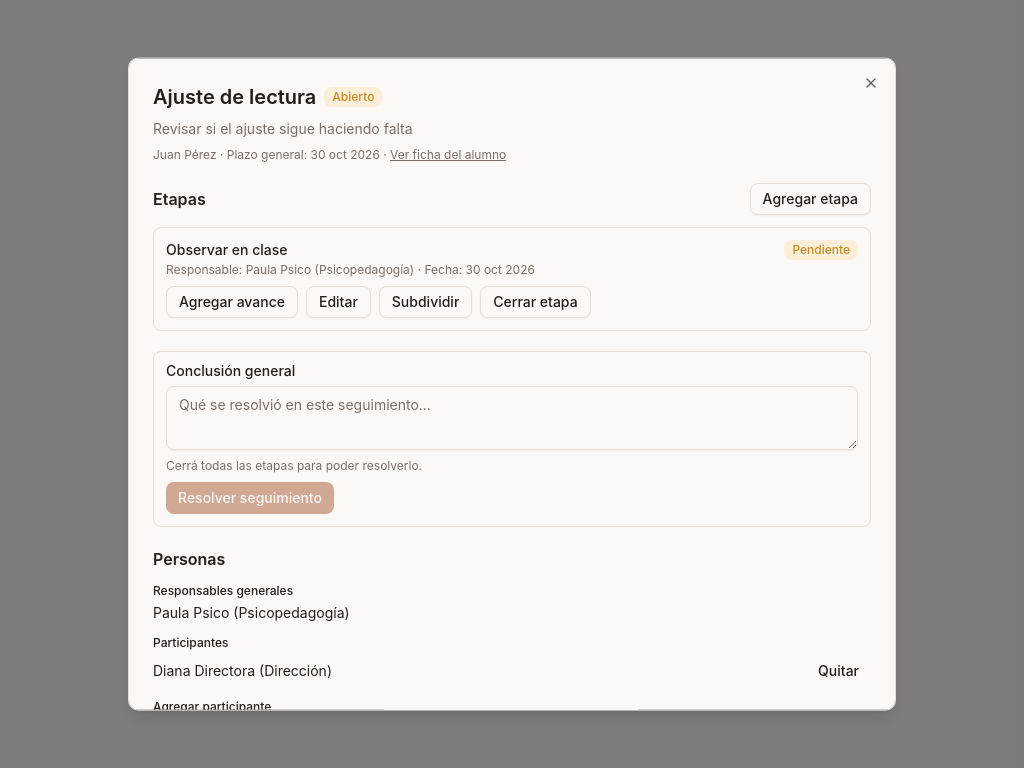
FollowUpDetailDialog › adds a stage and shows the record the server returns
Click the button "Agregar etapa": (810, 199) [750,183,871,215]
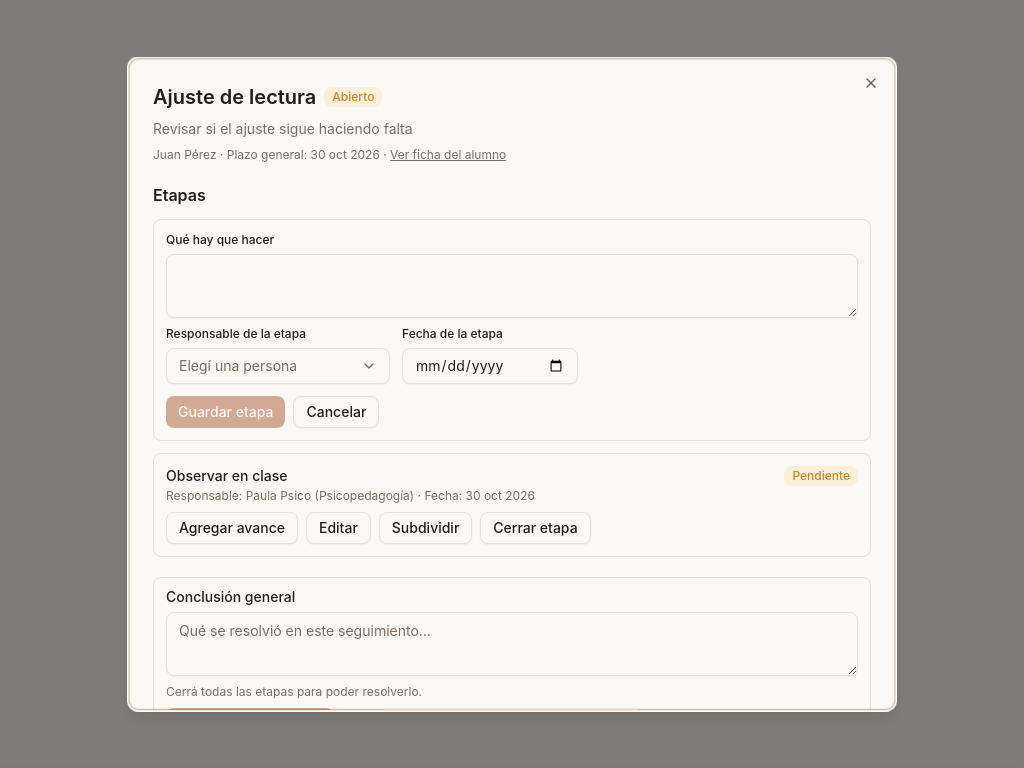
In the text box labelled "Qué hay que hacer": (512, 286) [166,254,858,318], type "Reunión con la familia"
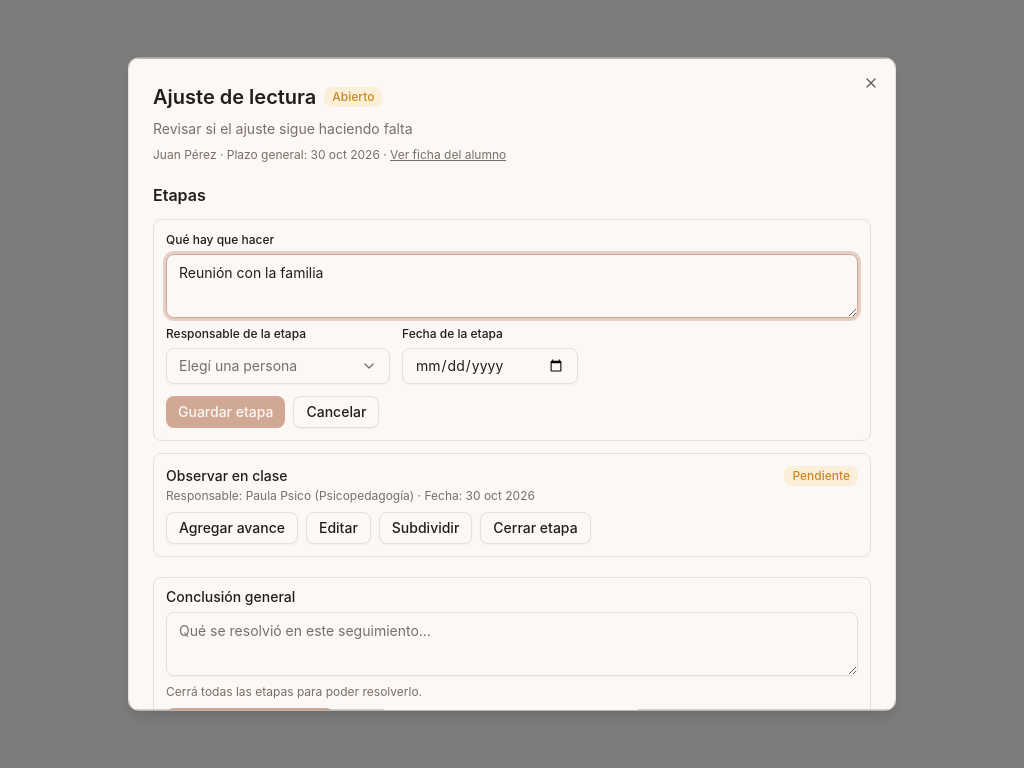
Click the button named "responsable de la etapa": (278, 366) [166,348,390,384]
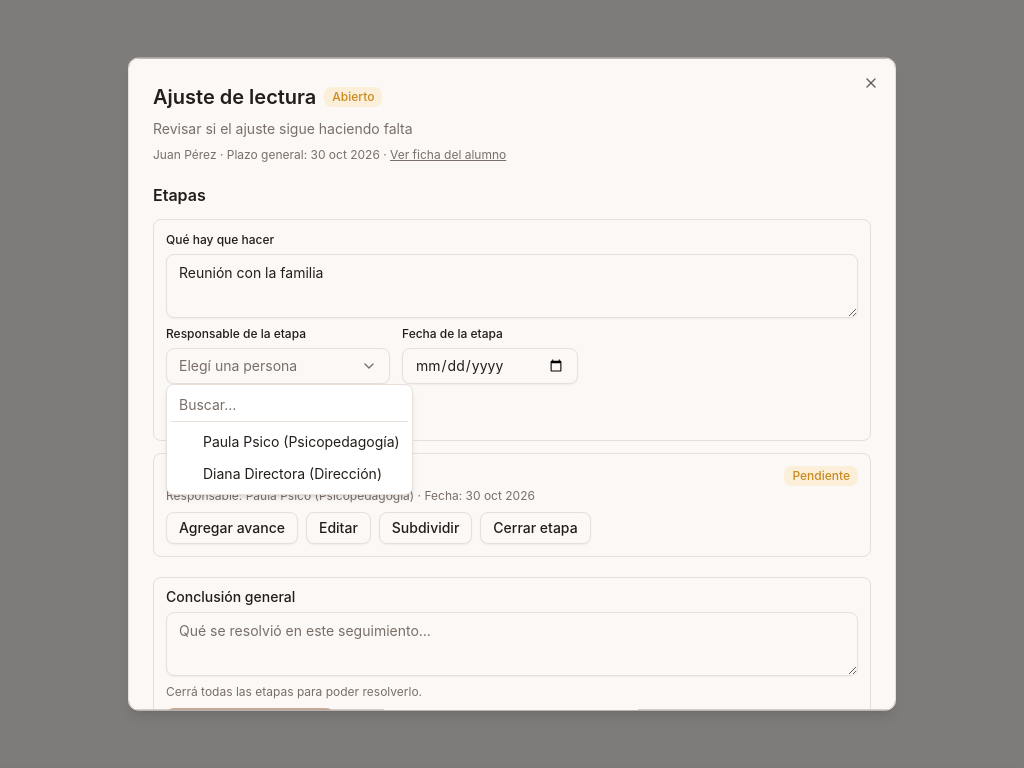
Click the button "Diana Directora (Dirección)": (289, 474) [171,458,408,490]
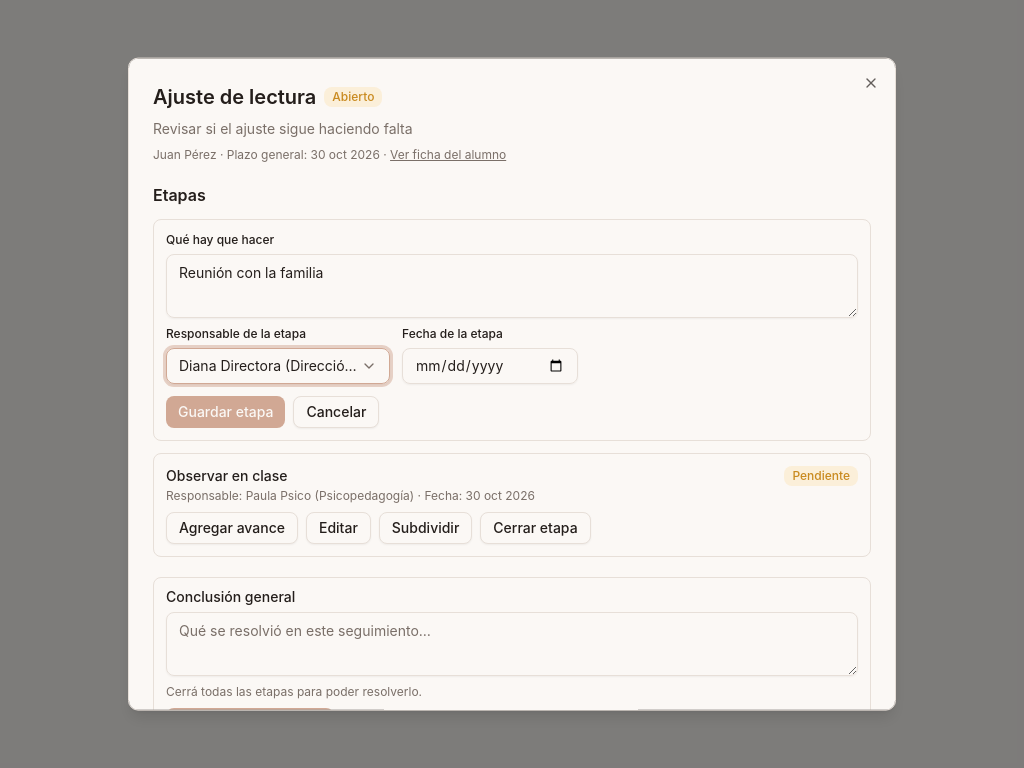
In the date field labelled "Fecha de la etapa": (490, 366) [402,348,578,384], type "2026-11-15"
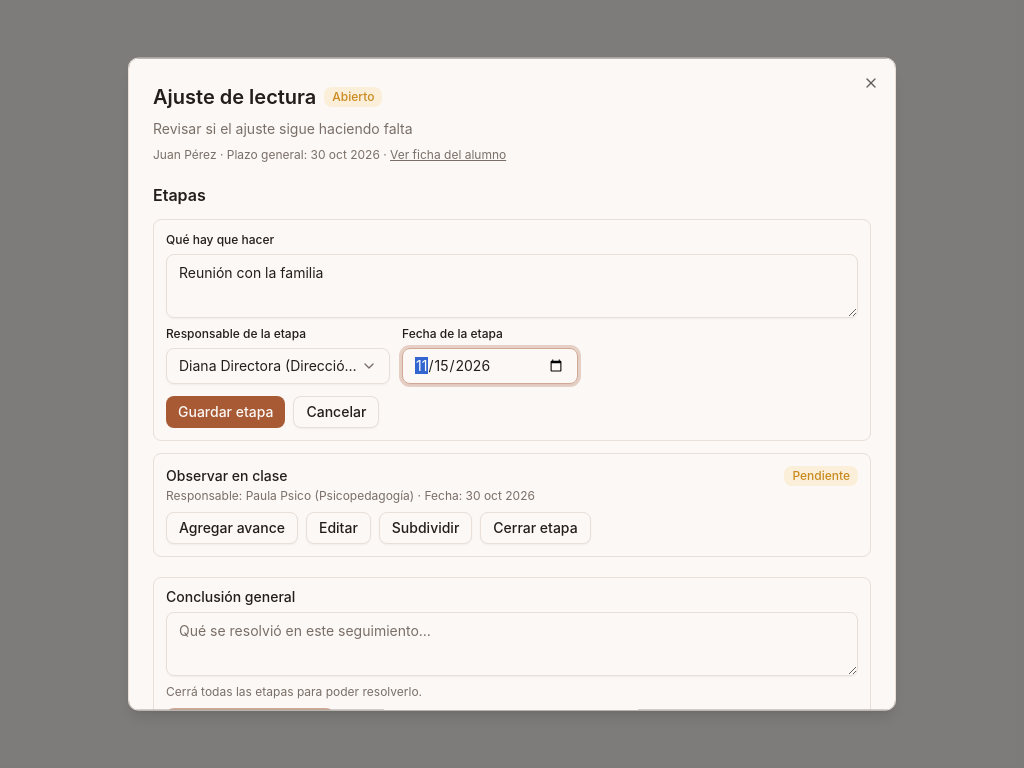
Click the button "Guardar etapa": (226, 412) [166,396,286,428]
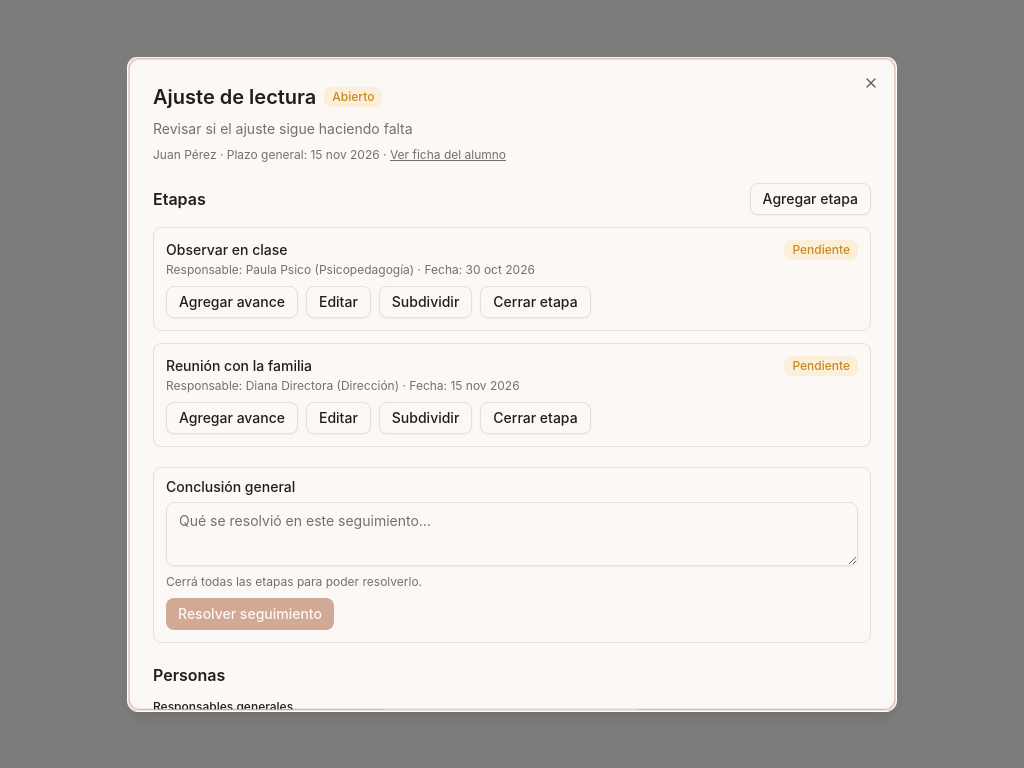
Expected: the text "Reunión con la familia" is shown, [166,357,312,374]
Expected: the number of list items named "etapa" is 2, [153,227,871,331]; [153,343,871,447]
